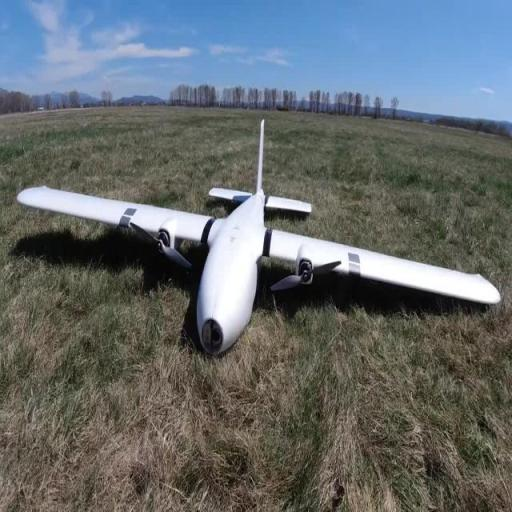uav: (14, 114, 504, 358)
